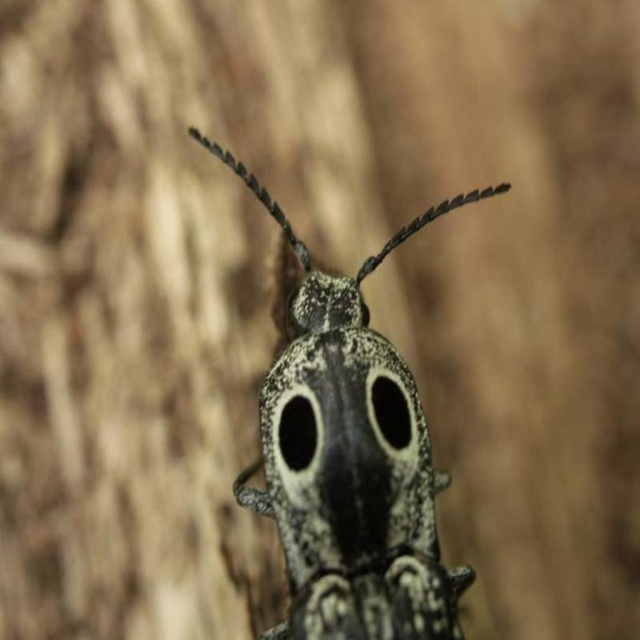Moths and butterflies: (186, 126, 516, 639)
